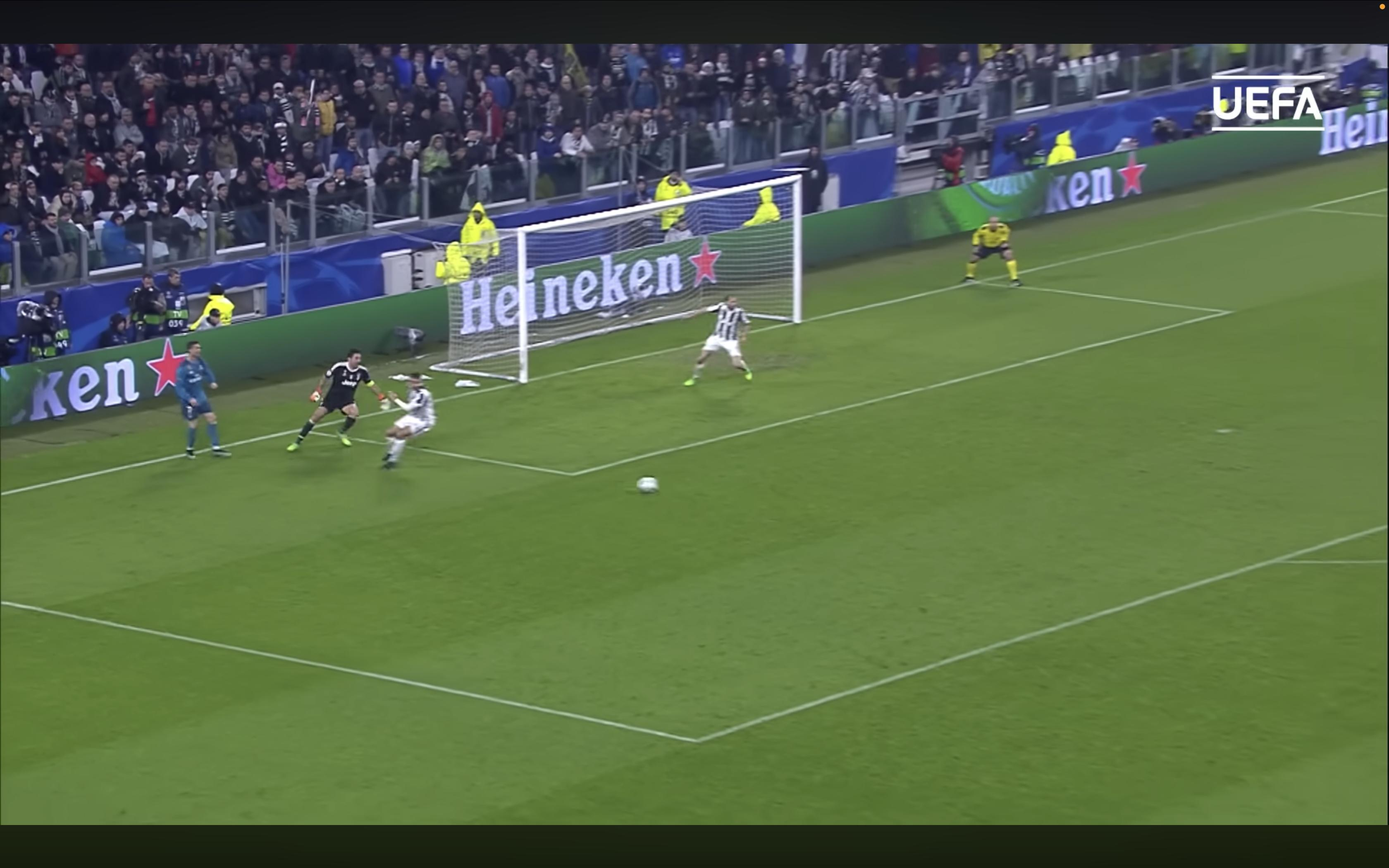ball: (637, 476, 658, 494)
goalkeeper: (288, 350, 388, 451)
player: (174, 341, 230, 458), (684, 296, 752, 386), (382, 374, 435, 469)
referee: (964, 216, 1021, 285)
